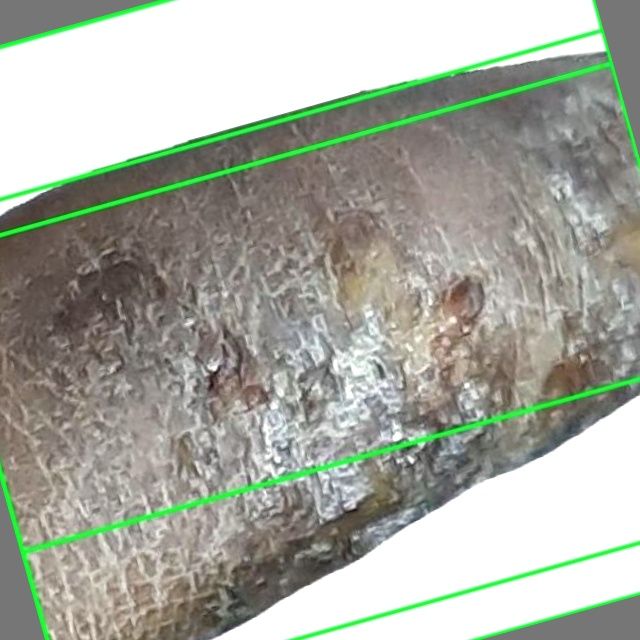Eczema: (0, 29, 639, 639), (21, 379, 639, 639), (0, 0, 611, 233)
